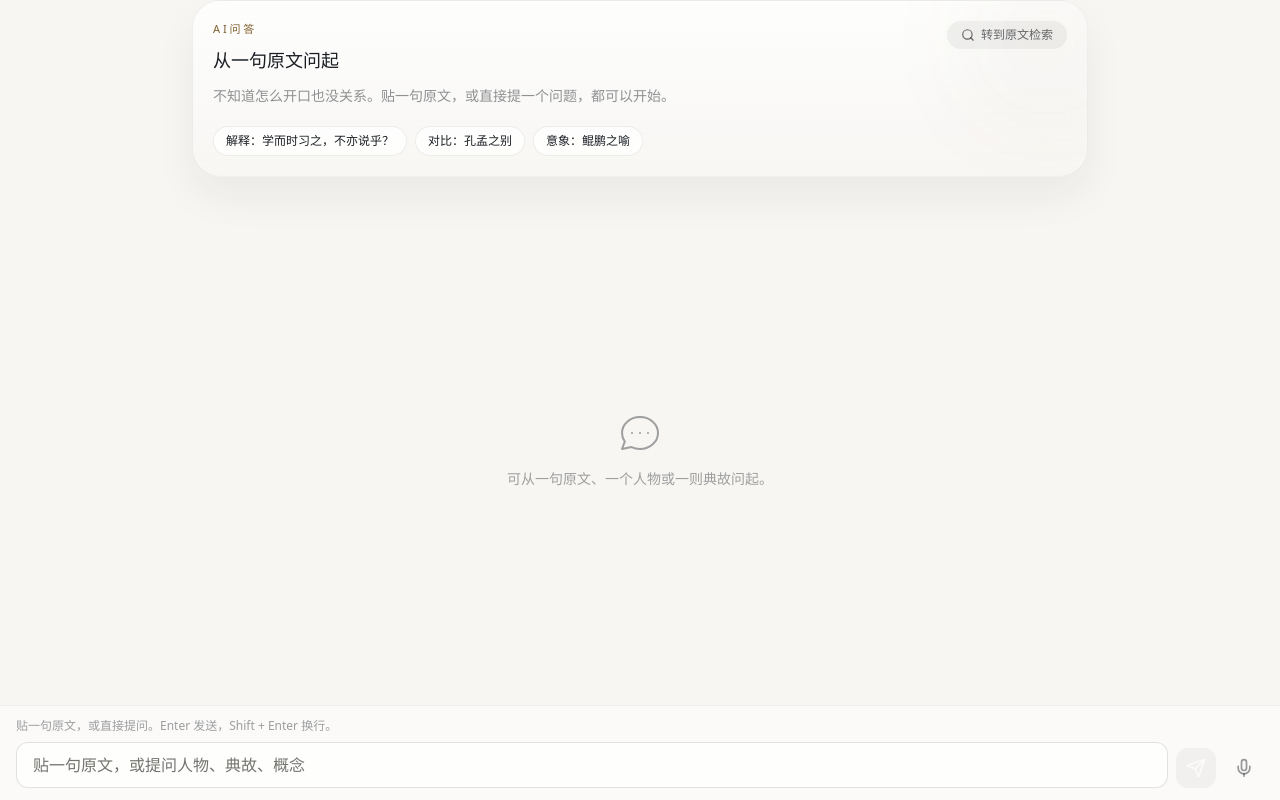
Test case: ChatInterface › turns an empty chat stream into a visible retry state
In the text box: (592, 765) left=16, top=742, right=1168, bottom=788, type "没有内容的问题"
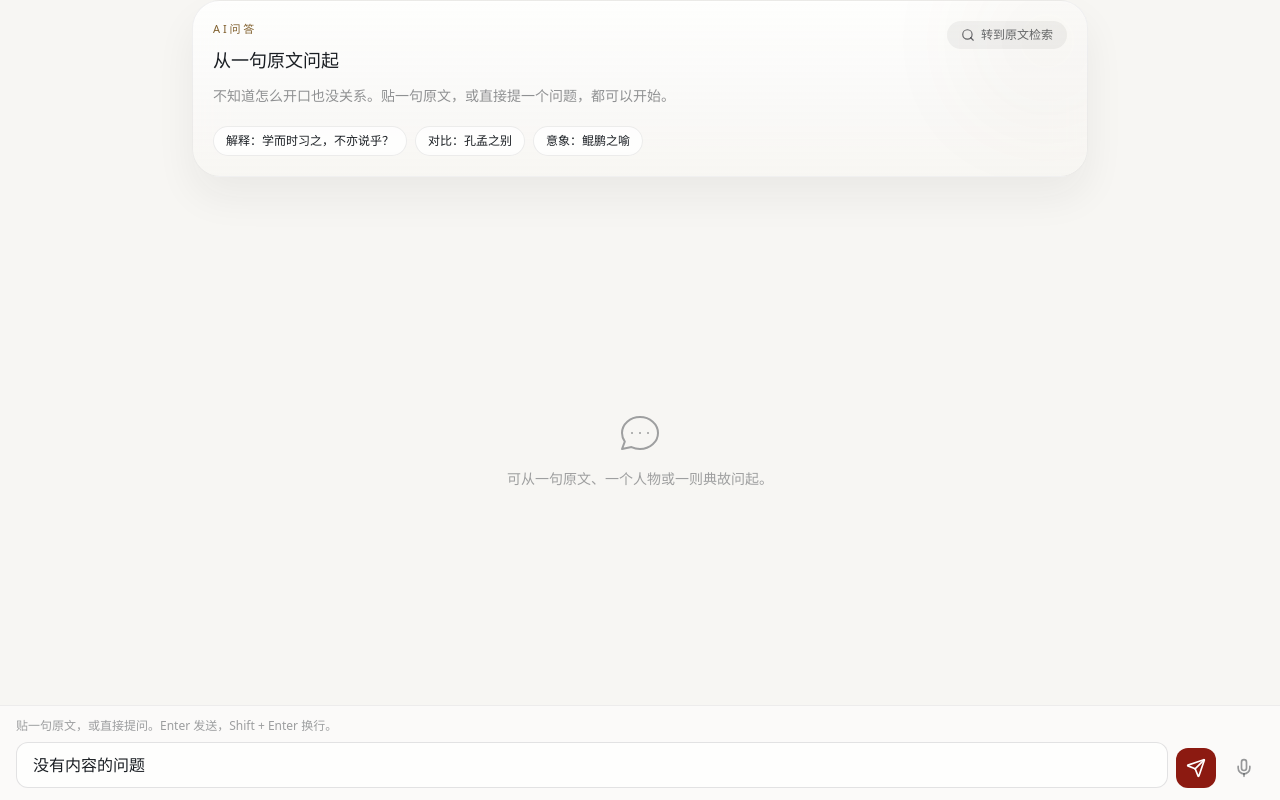
Click the button named "发送": (1196, 768) left=1176, top=748, right=1216, bottom=788
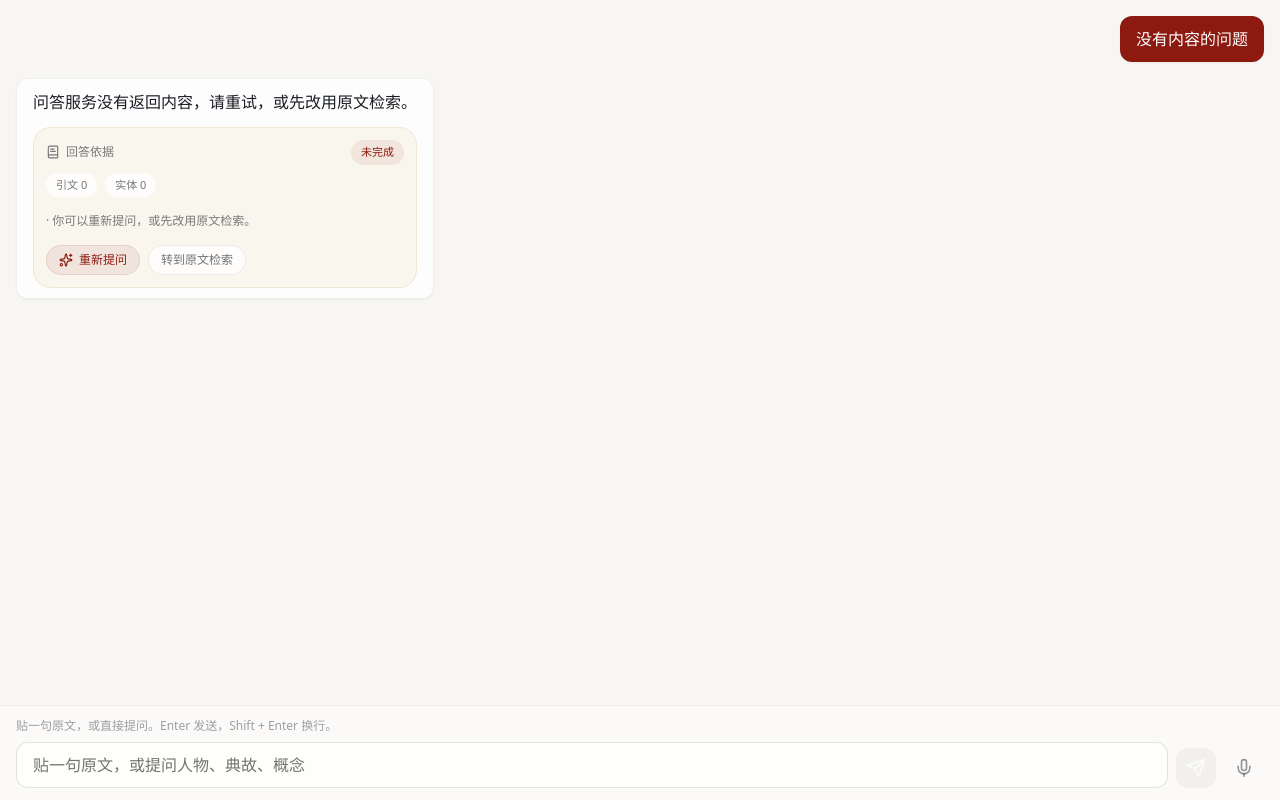
Now the text "问答服务没有返回内容，请重试，或先改用原文检索。" is shown, box left=33, top=89, right=417, bottom=115
Now the button "重新提问" is shown, box left=46, top=245, right=140, bottom=275
